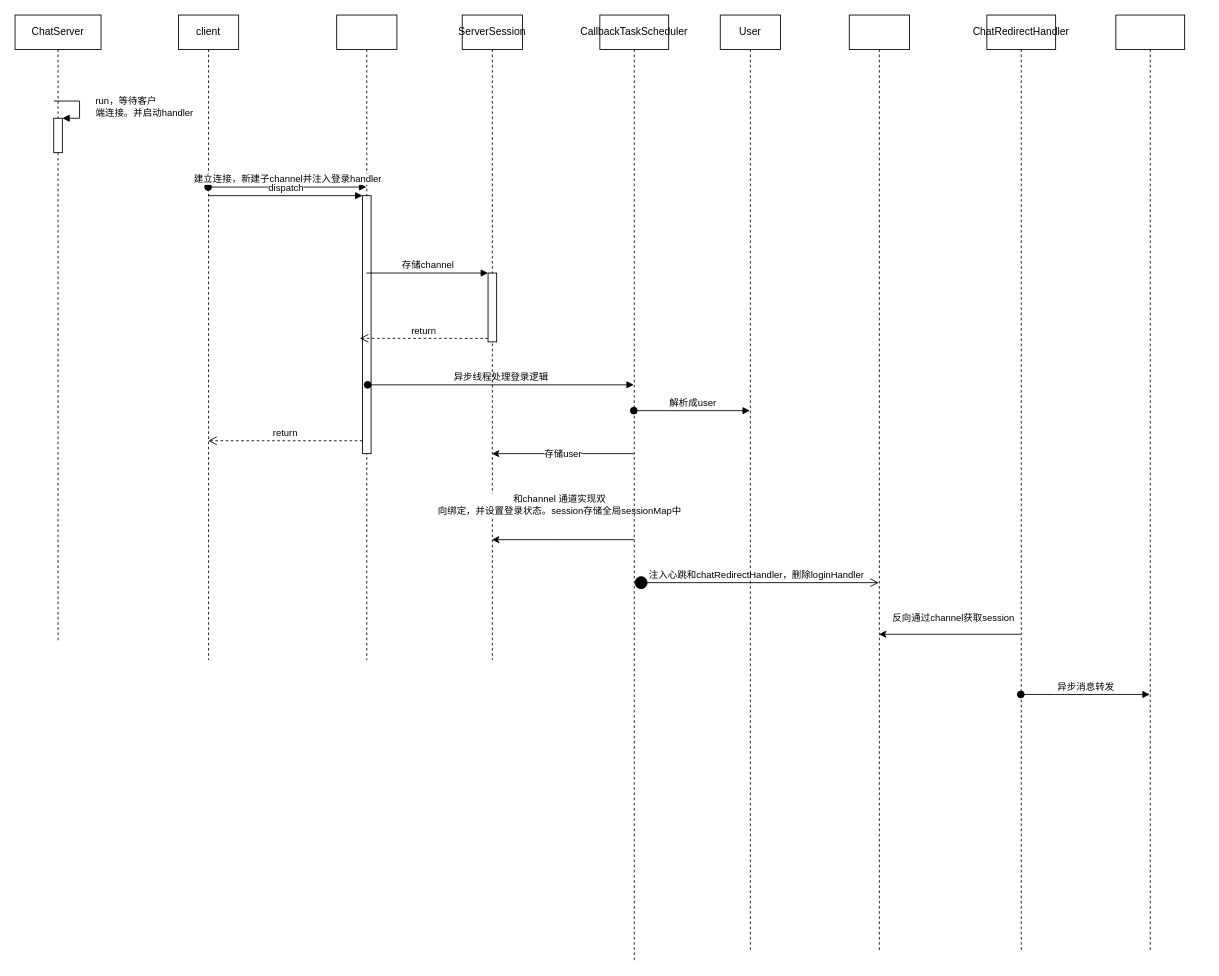
This 1219x976 diagram has some shape labels left out. Here are the shapes that lost their labels. From the top down, the box of each, then its label:
(336, 14, 397, 660): LoginResponseHandler
(848, 14, 909, 952): ChannelHandlerContext
(1115, 14, 1185, 952): ChatRedirectProcesser
